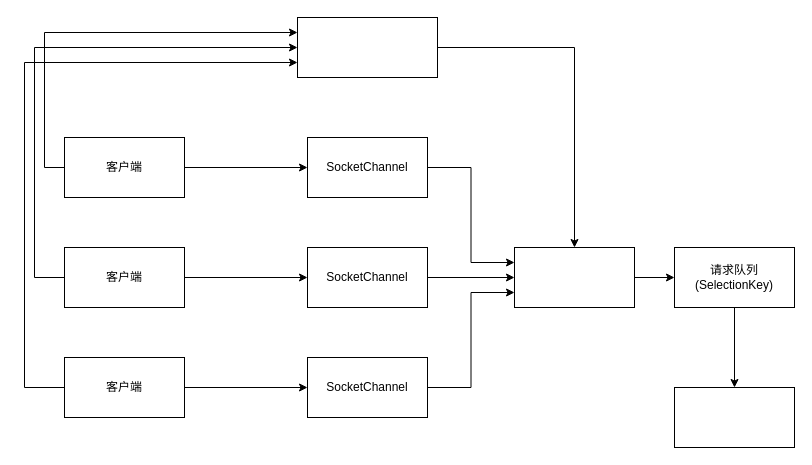
This 812x465 diagram has some shape labels left out. Each missing label, with the centre of its shape:
"Selector" belongs at point 574,277.
"ServerSocketChannel" belongs at point 367,47.
"线程池" belongs at point 734,417.
